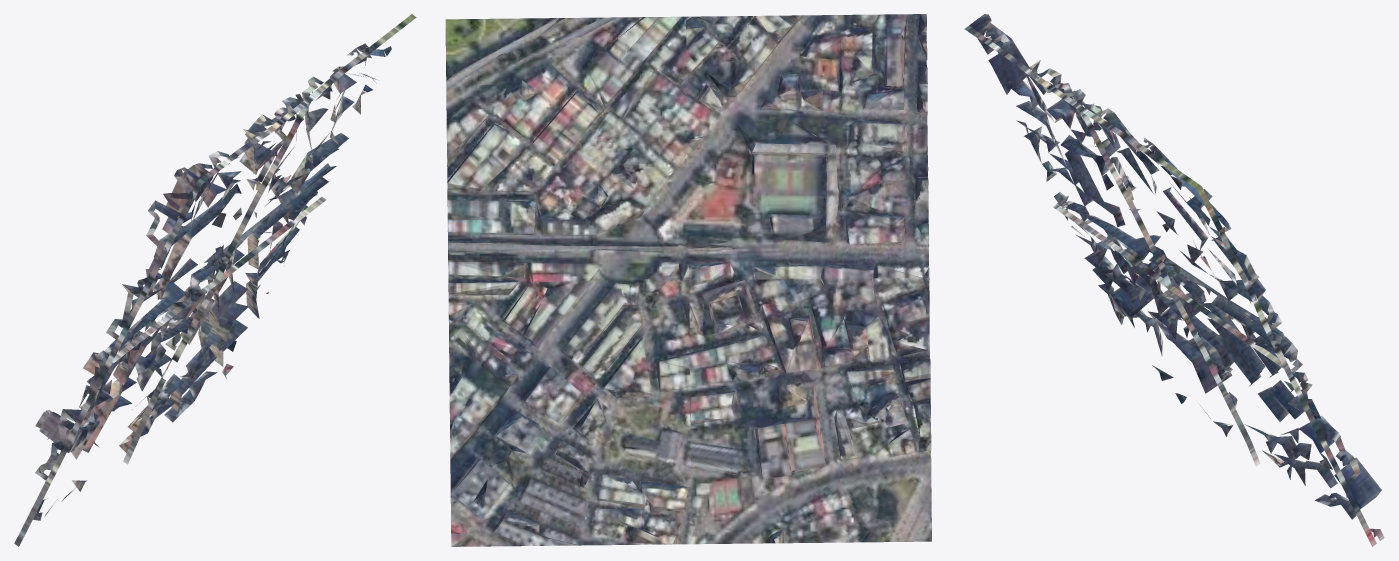
3 views of the same model, side by side, from view 1: azimuth 30°, elevation 25°; view 2: azimuth 150°, elevation 25°; view 3: azimuth 270°, elevation 25° (orthographic). The views are drawn at different scales.
Bounding box in the file's own units: 611 × 566 × 523.
2 materials, 2 textured.
